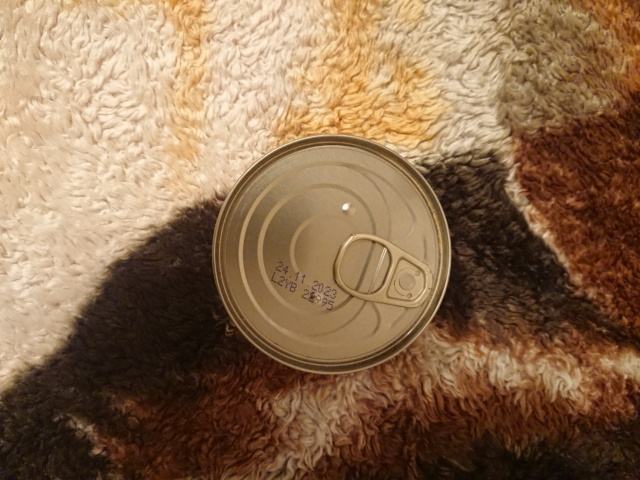Podravka Luncheon Meat 150g: (206, 129, 455, 380)
